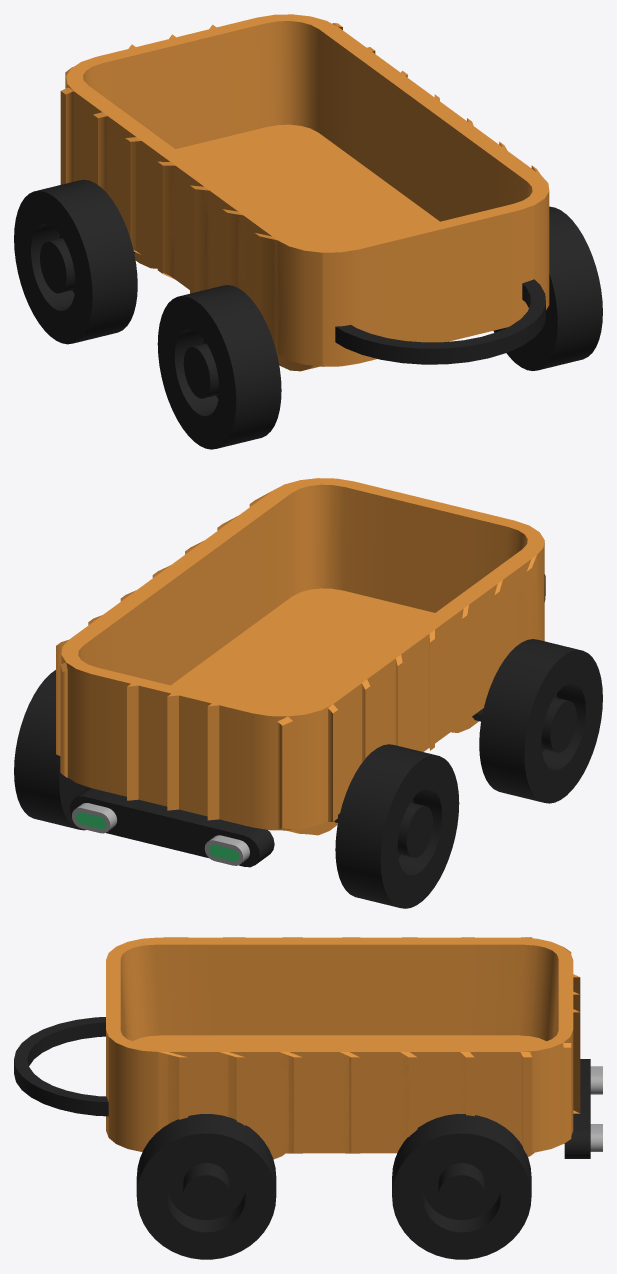
Rendered from Trolley.fbx.
The picture shows the model from 3 angles, top to bottom: view 1: azimuth 30°, elevation 25°; view 2: azimuth 150°, elevation 25°; view 3: azimuth 270°, elevation 25°; orthographic projection. The views are drawn at different scales.
Parts seen in each view (by area): view 1: Trolley; view 2: Trolley; view 3: Trolley.
Boxes of the visible parts, left/top/right/bottom form: Trolley: left=14, top=14, right=602, bottom=449; Trolley: left=14, top=478, right=602, bottom=908; Trolley: left=14, top=937, right=602, bottom=1259.
Size of the model in its own units: 279 by 153 by 438.
